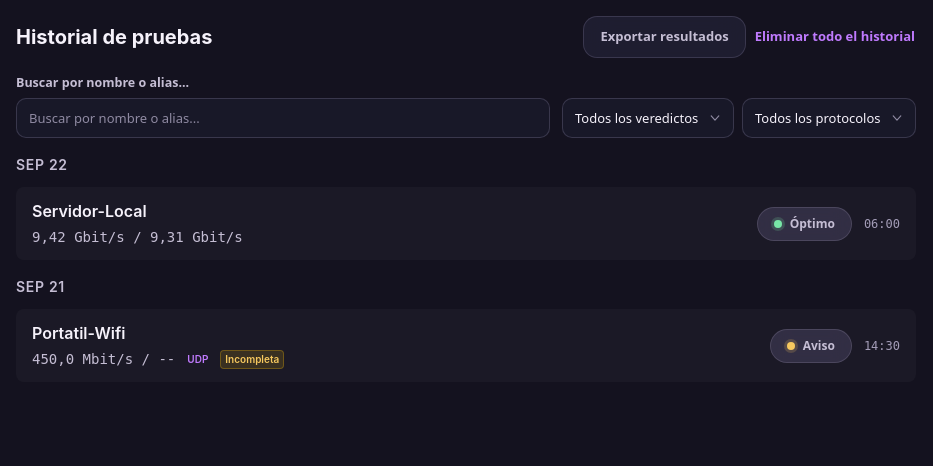
T079 - HistoryScreen UI Component Tests (US4) › permite abrir el detalle de una sesión al pulsar sobre ella
Click the text "Servidor-Local".
click(89, 211)  # box [32, 201, 147, 221]
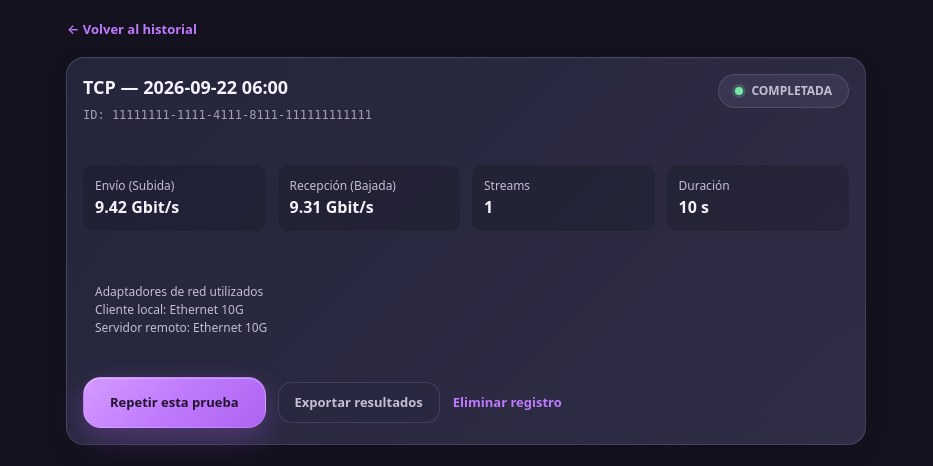
expect the button "← Volver al historial" is shown: met, box [67, 20, 197, 40]
expect the button "Repetir esta prueba" is shown: met, box [110, 392, 238, 412]
